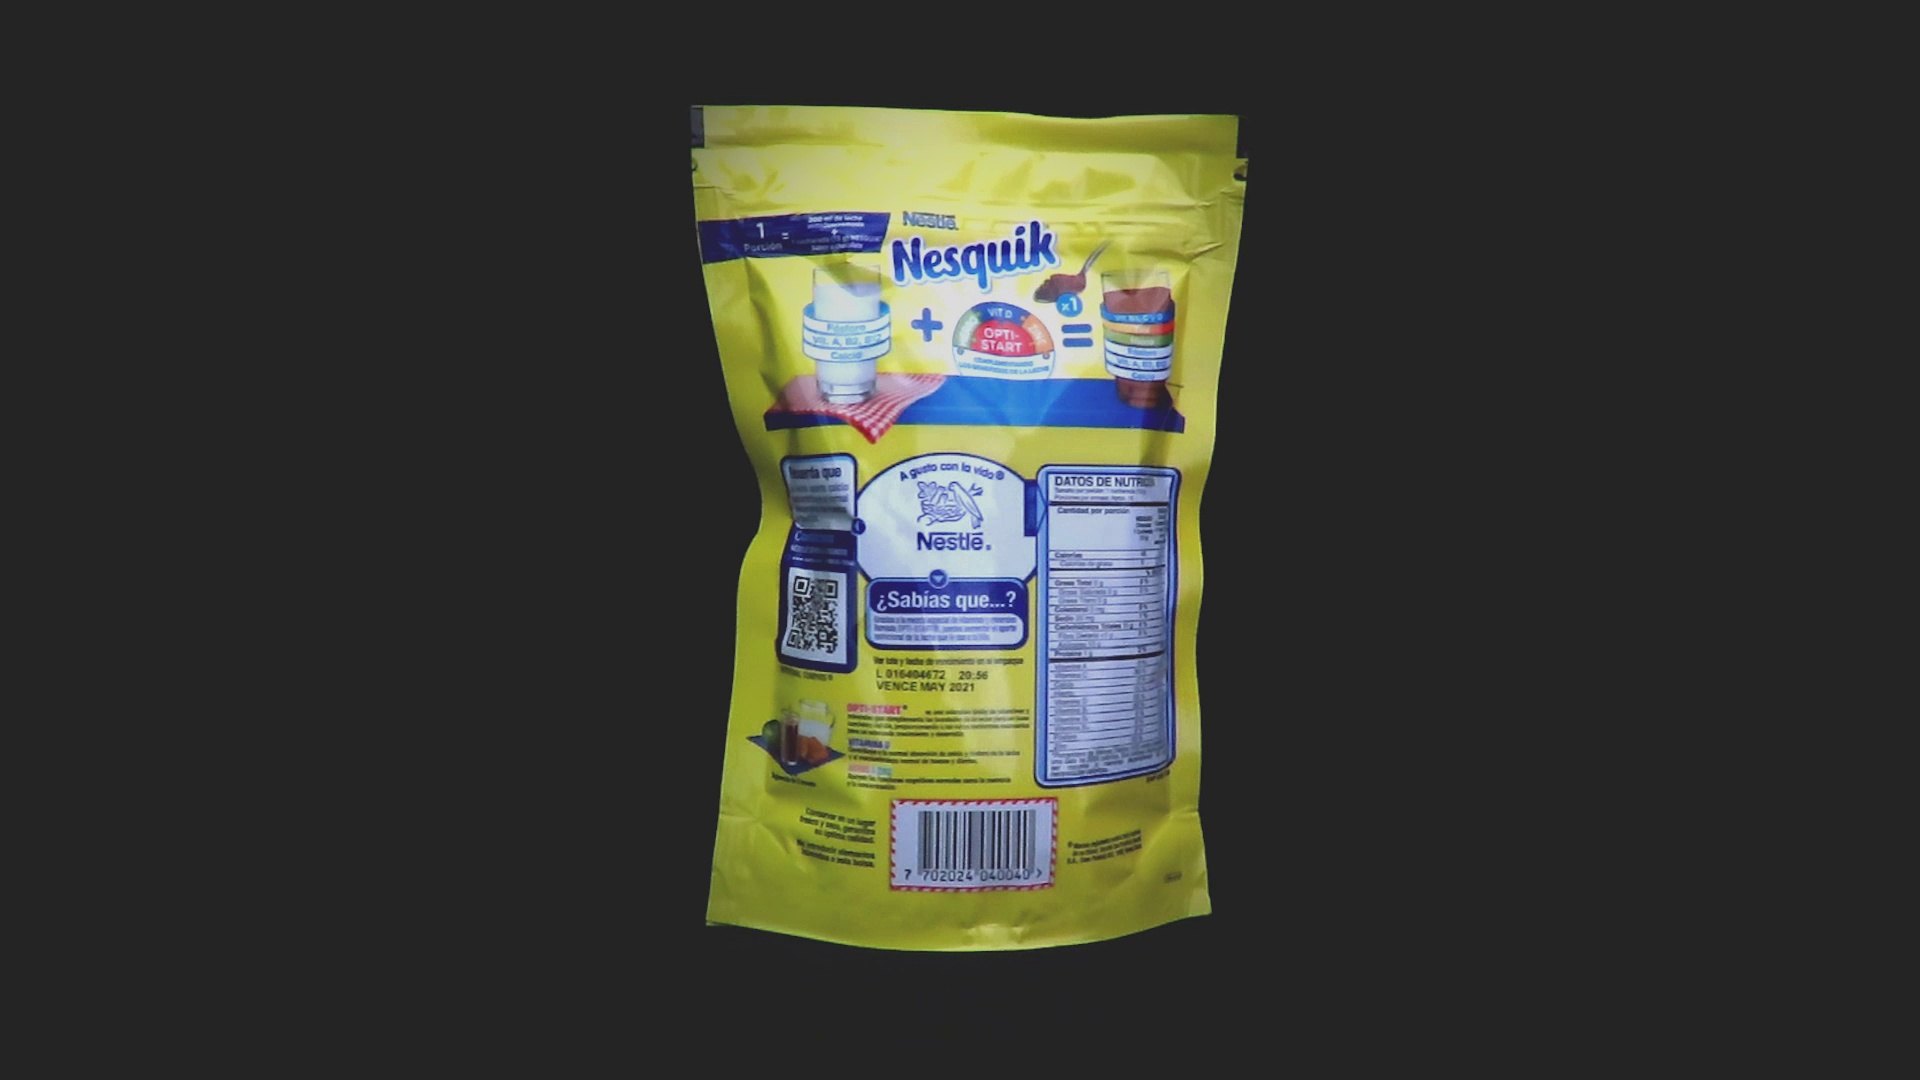COL0170303DYP20000: (684, 100, 1255, 957)
